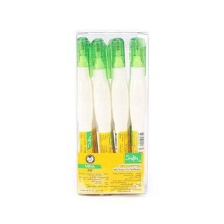correction_fluid: (105, 35, 131, 195), (90, 36, 115, 195), (127, 35, 147, 195), (76, 36, 95, 195)
plastic_box: (72, 27, 152, 200)
